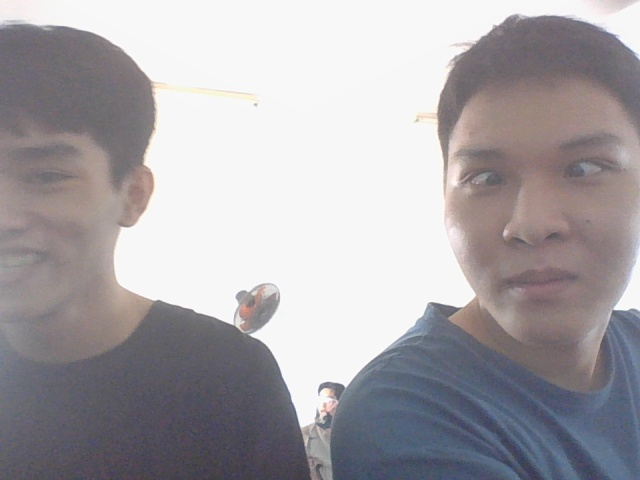real: (415, 0, 640, 380)
